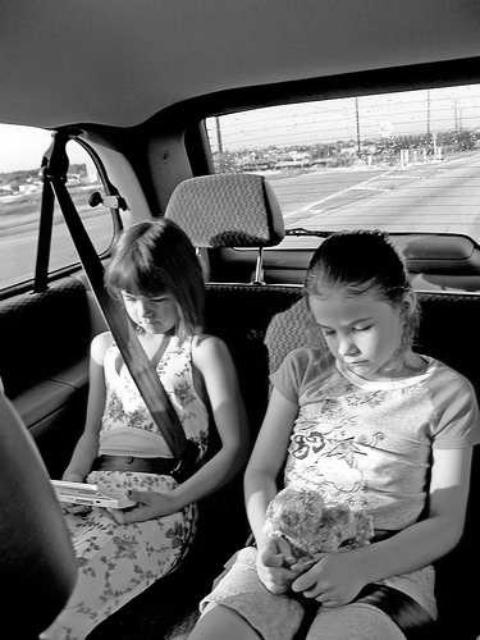Seatbelt: (43, 149, 198, 475)
